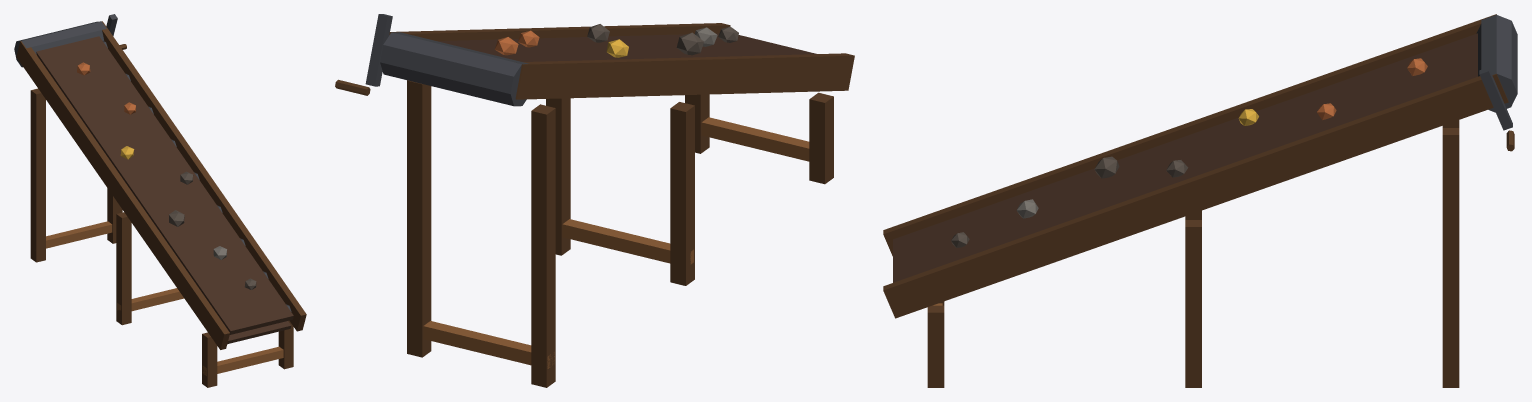
File: mine_conveyor.glb
3 renders of one model, left to right at view 1: azimuth 30°, elevation 25°; view 2: azimuth 150°, elevation 25°; view 3: azimuth 270°, elevation 25°, orthographic. The views are drawn at different scales.
Visible parts, largest first — view 1: mine_conveyor; view 2: mine_conveyor; view 3: mine_conveyor.
Boxes of the visible parts, box(x1,y1,x2,y2) form: mine_conveyor: box(14, 14, 306, 387); mine_conveyor: box(335, 14, 854, 387); mine_conveyor: box(883, 14, 1517, 387).
Size of the model in its own units: 1.17 by 2.14 by 3.82.
